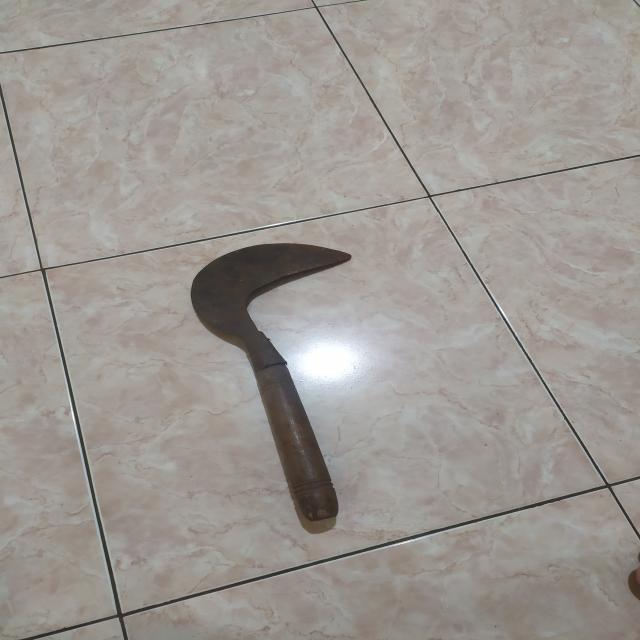Knife: (192, 243, 354, 520)
